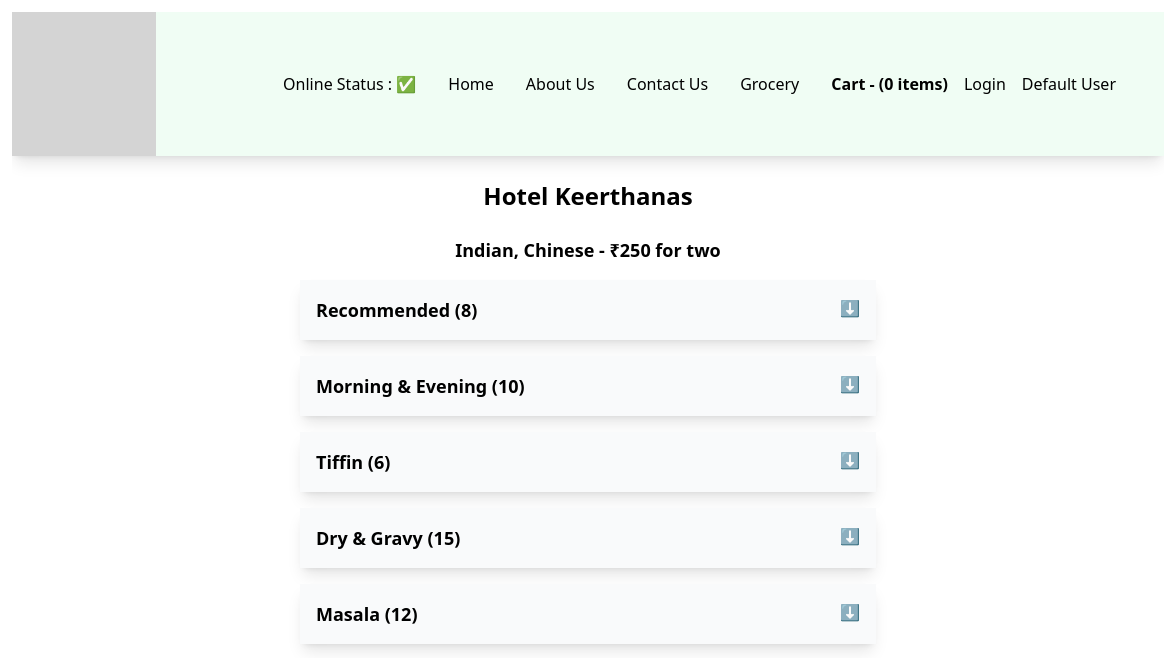
Test case: Should check whether Cart - (1 items) is present in header when one item is added in the cart
Click the text "Recommended (8)" at (397, 310), box x1=316 y1=296 x2=477 y2=324
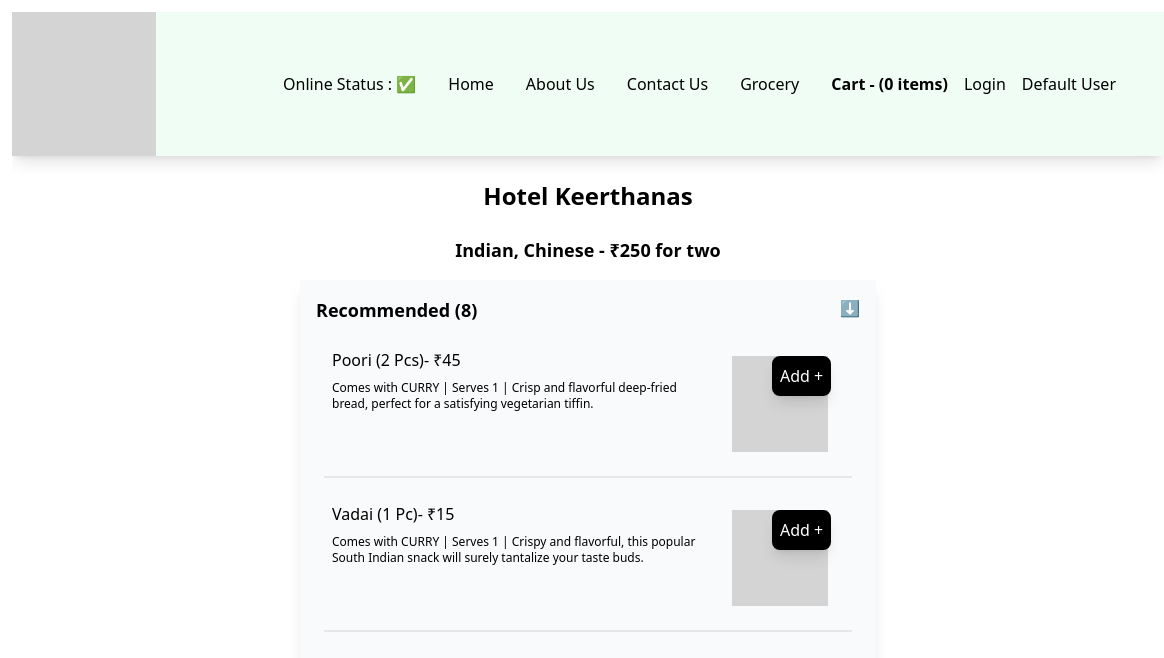
Click the button "Add +" in the row of "Poori (2 Pcs)" at (802, 376), box x1=772 y1=356 x2=831 y2=396
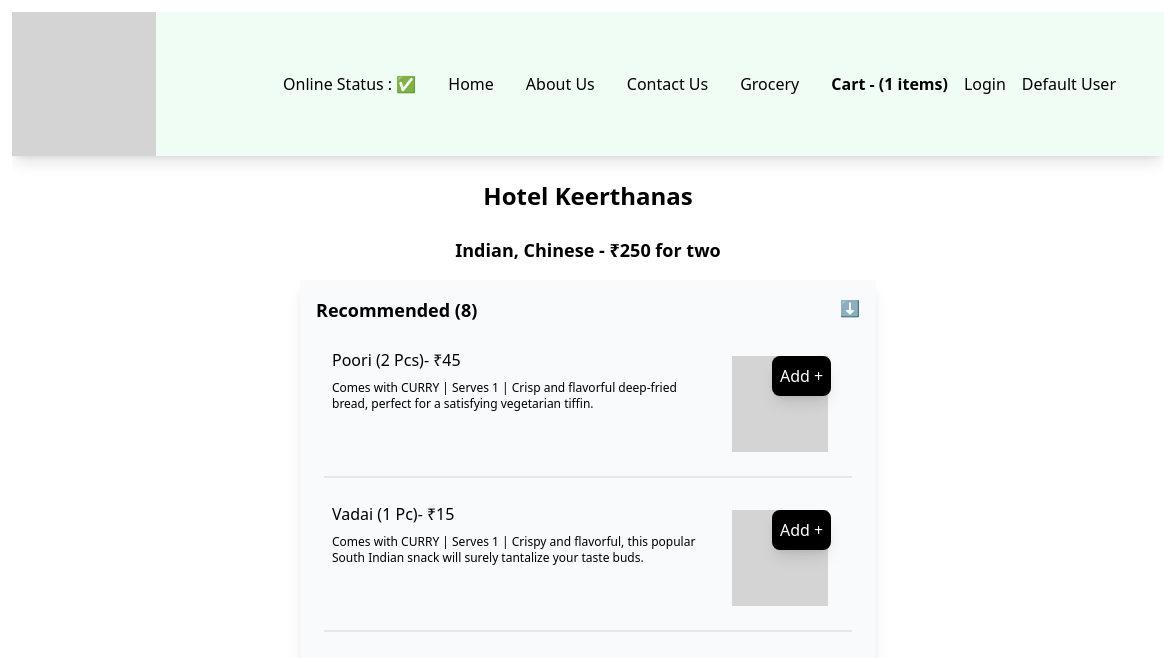
Expected: the link "Cart - (1 items)" is shown, x1=831 y1=73 x2=948 y2=95
